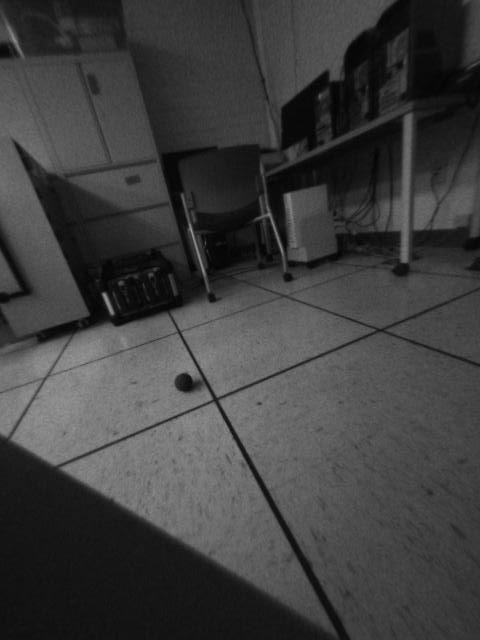dogtoy: (166, 364, 204, 400)
